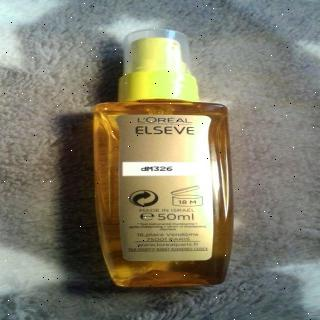Plastic-bottle: (80, 29, 260, 293)
